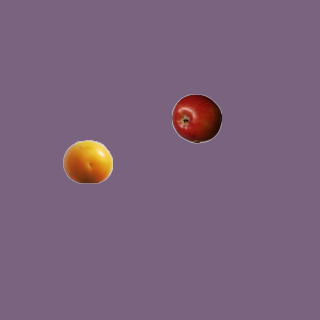Apple Braeburn: (171, 93, 221, 143)
Cherry Wax Yellow: (62, 136, 112, 186)
